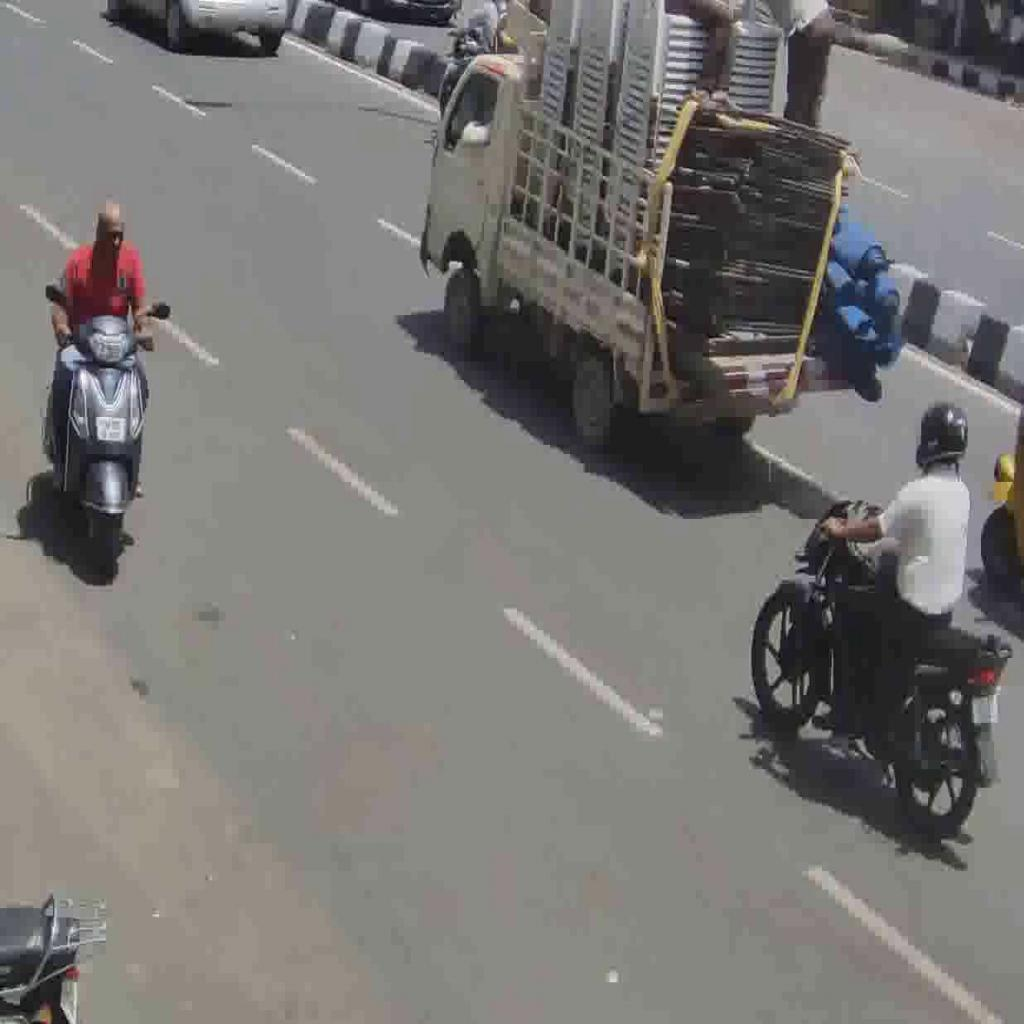helmet: (750, 497, 1013, 842), (43, 306, 153, 578)
